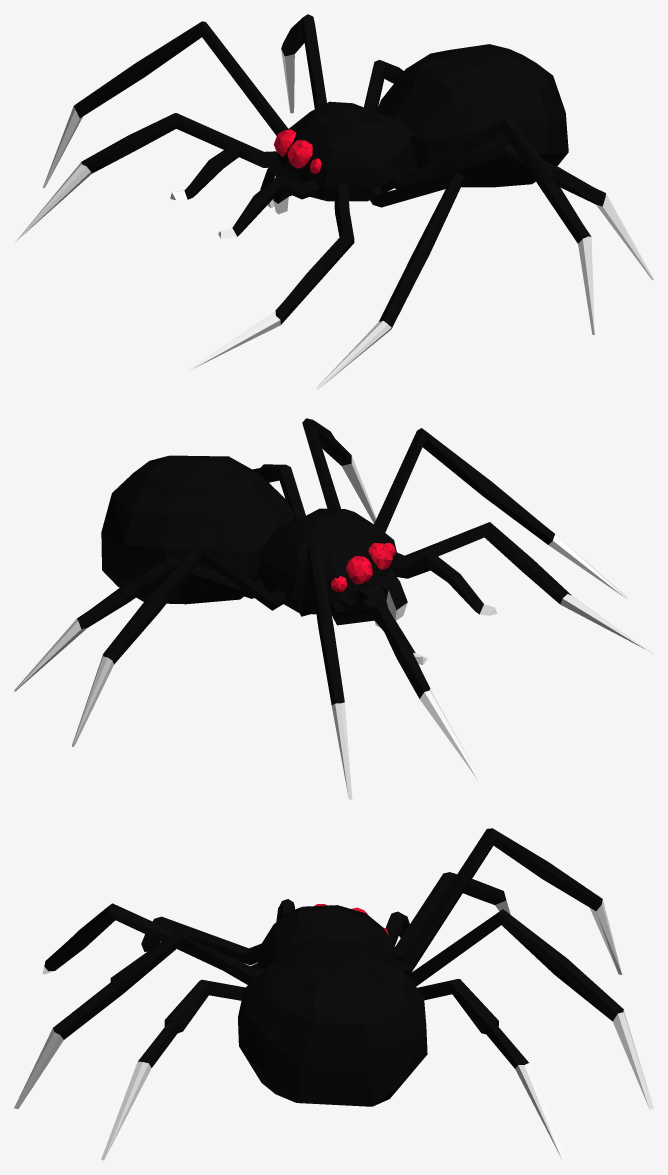
The model's file is spiderIdle8.obj.
The picture shows the model from 3 angles, top to bottom: view 1: azimuth 30°, elevation 25°; view 2: azimuth 150°, elevation 25°; view 3: azimuth 270°, elevation 25°; orthographic projection. The views are drawn at different scales.
Visible parts, largest first — view 1: Cube.003_Cube.004; view 2: Cube.003_Cube.004; view 3: Cube.003_Cube.004.
Part boxes in pixels (x1,y1,x2,y2): Cube.003_Cube.004: (15, 14, 653, 389); Cube.003_Cube.004: (14, 418, 653, 799); Cube.003_Cube.004: (14, 828, 653, 1160).
Bounding box in the file's own units: 29.41 × 11.68 × 34.52.
